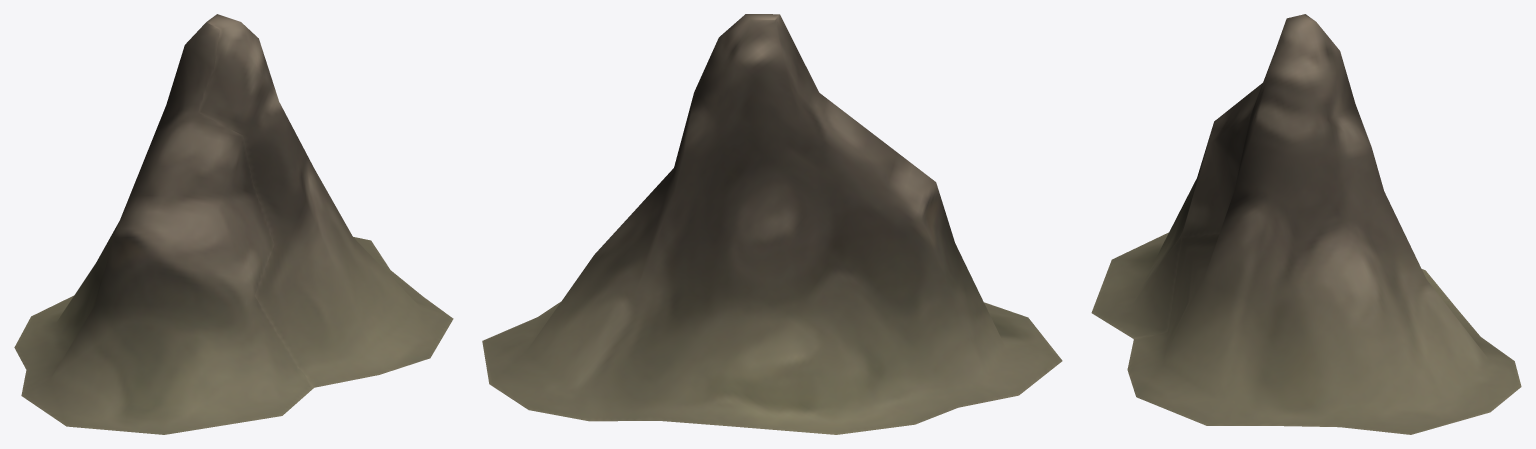
File: Rock_Small_04.FBX
3 views of the same model, side by side, from view 1: azimuth 30°, elevation 25°; view 2: azimuth 150°, elevation 25°; view 3: azimuth 270°, elevation 25° (orthographic). The views are drawn at different scales.
Parts seen in each view (by area): view 1: Rock_Small_04; view 2: Rock_Small_04; view 3: Rock_Small_04.
Boxes of the visible parts, bbox=[...] form: Rock_Small_04: bbox=[14, 14, 453, 434]; Rock_Small_04: bbox=[482, 14, 1062, 434]; Rock_Small_04: bbox=[1091, 14, 1521, 434].
Bounding box in the file's own units: 974 × 684 × 849.
